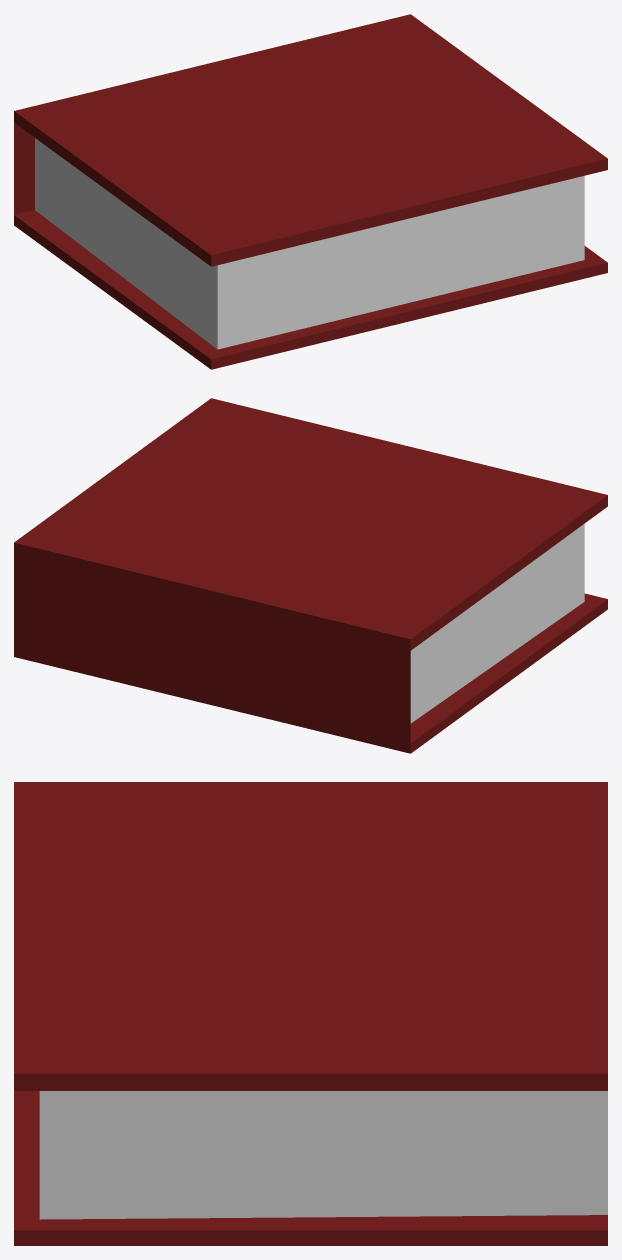
Rendered from book1.glb.
The picture shows the model from 3 angles, top to bottom: view 1: azimuth 30°, elevation 25°; view 2: azimuth 150°, elevation 25°; view 3: azimuth 270°, elevation 25°; orthographic projection. The views are drawn at different scales.
Visible parts, largest first — view 1: Book2; view 2: Book2; view 3: Book2.
Part boxes in pixels (x1,y1,x2,y2): Book2: (14, 14, 607, 369); Book2: (14, 398, 607, 753); Book2: (14, 782, 607, 1245).
Bounding box in the file's own units: 0.7236 × 0.1994 × 0.6231.
1 material, 1 textured.
